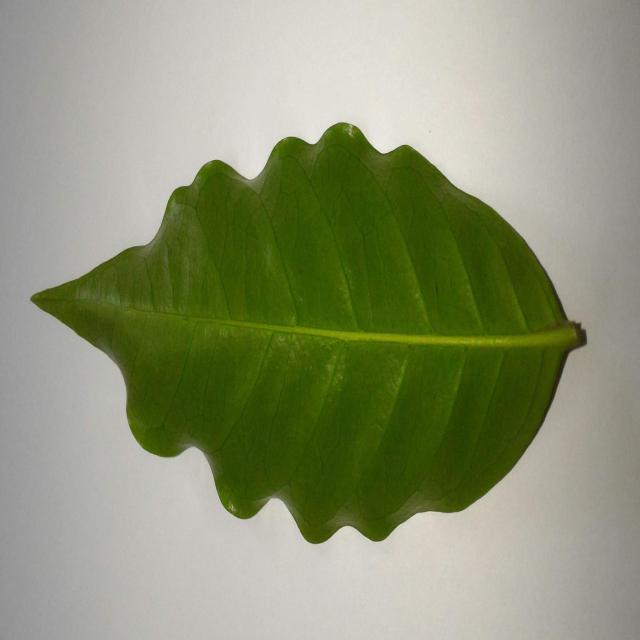nodisease: (32, 123, 586, 543)
